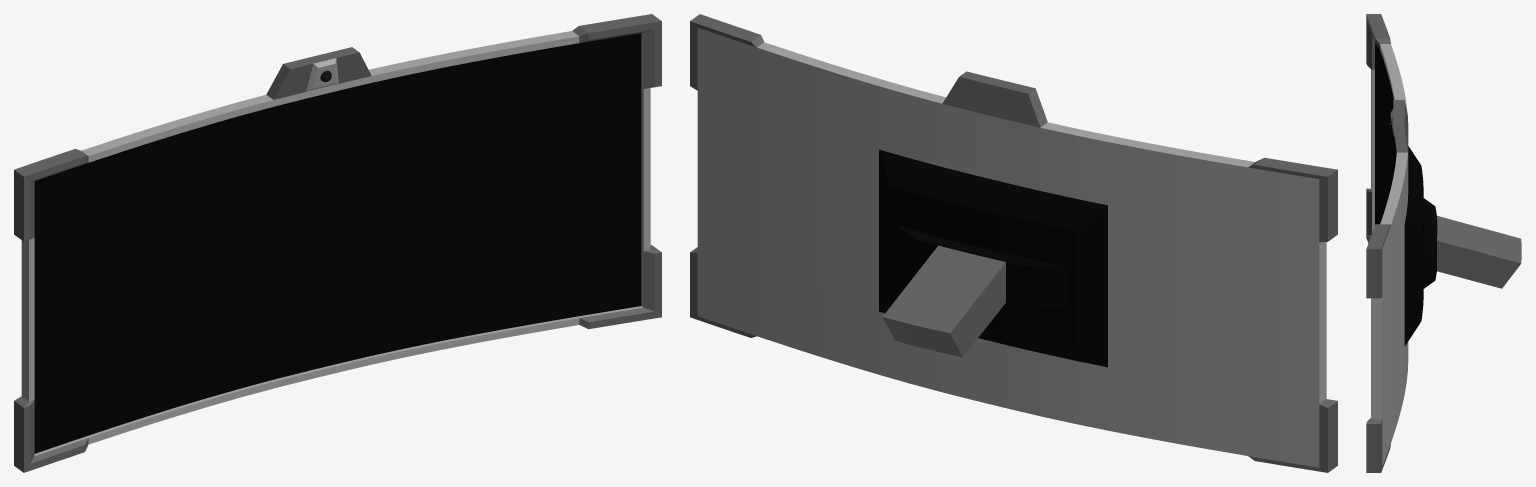
The model's file is bigMonitor.fbx.
3 views of the same model, side by side, from view 1: azimuth 30°, elevation 25°; view 2: azimuth 150°, elevation 25°; view 3: azimuth 270°, elevation 25° (orthographic). The views are drawn at different scales.
Visible parts, largest first — view 1: monitor; view 2: monitor; view 3: monitor.
Boxes of the visible parts, x1=… form: monitor: x1=14, y1=14, x2=661, y2=472; monitor: x1=690, y1=14, x2=1337, y2=472; monitor: x1=1366, y1=14, x2=1521, y2=472.
Bounding box in the file's own units: 205 × 98.72 × 57.29.
